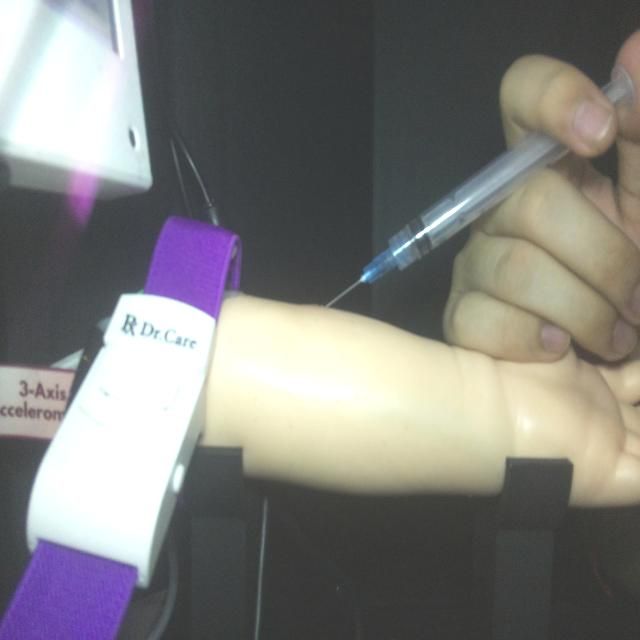29 degrees: (326, 66, 635, 308)
